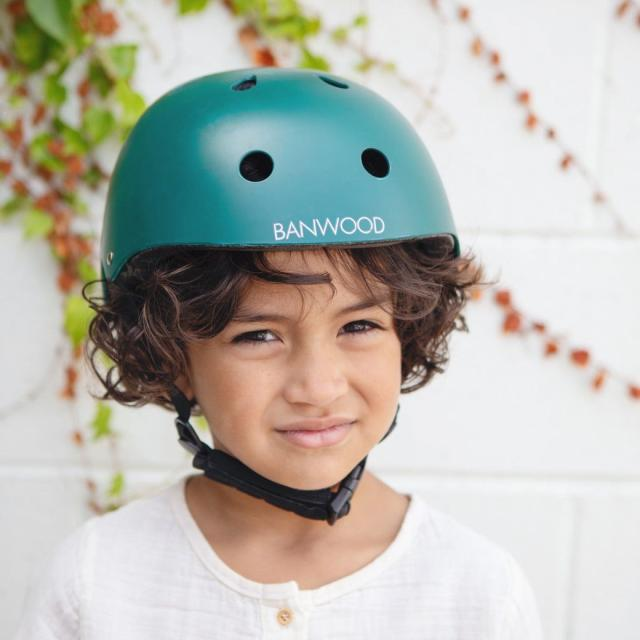Helmet: (99, 66, 462, 494)
